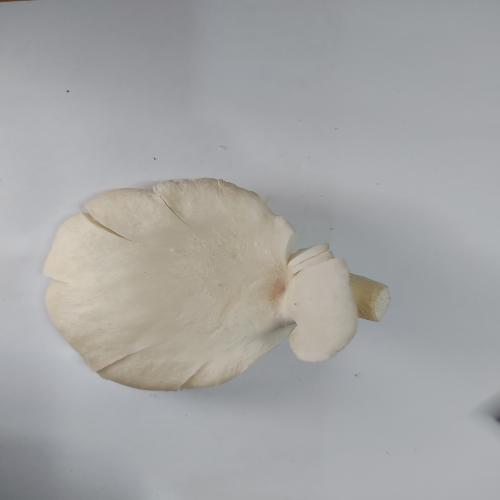Oyster Mushroom: (42, 176, 391, 392)
